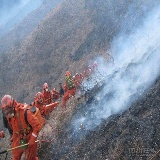fire: (78, 122, 85, 131)
